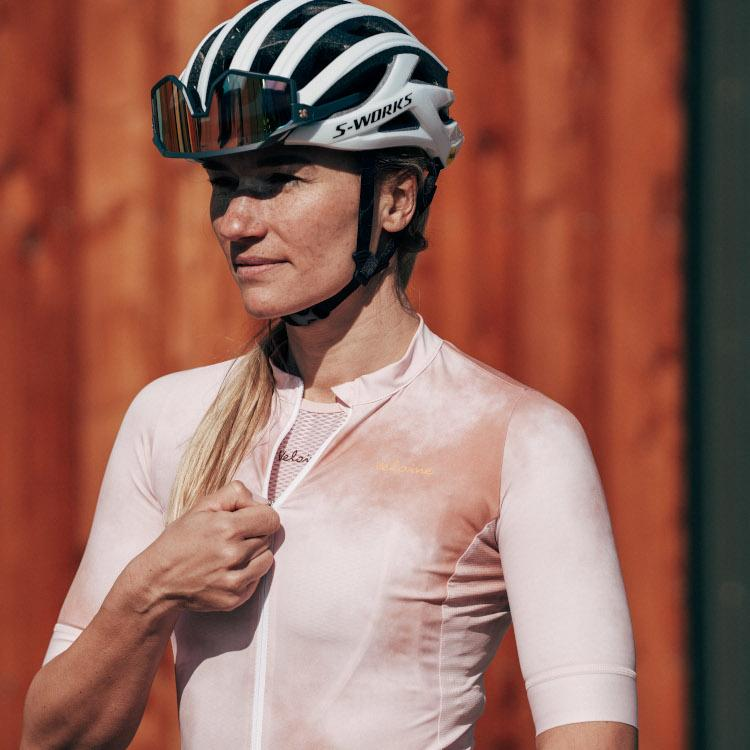helmet: (152, 1, 465, 318)
